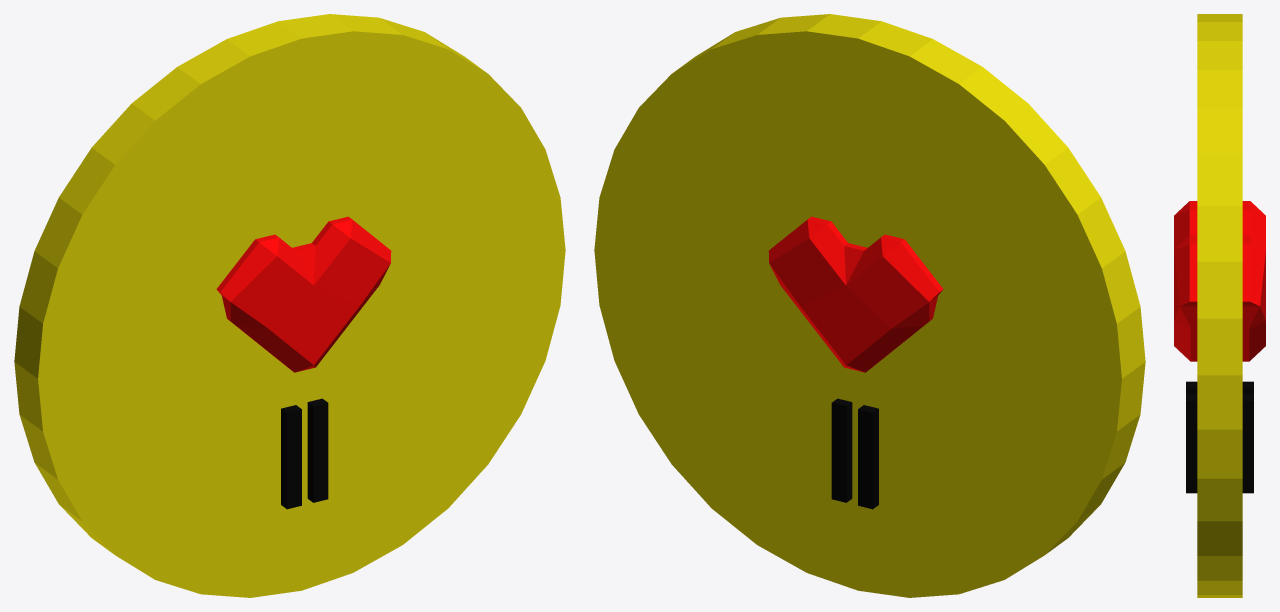
File: HealthRoom2.fbx
3 views of the same model, side by side, from view 1: azimuth 30°, elevation 25°; view 2: azimuth 150°, elevation 25°; view 3: azimuth 270°, elevation 25° (orthographic). The views are drawn at different scales.
Parts seen in each view (by area): view 1: Cylinder, Cube.001, Cube.003, Cube; view 2: Cylinder, Cube.001, Cube.003, Cube; view 3: Cylinder, Cube.001, Cube.003, Cube.
Boxes of the visible parts, bbox=[...] form: Cylinder: bbox=[14, 14, 565, 597]; Cube.001: bbox=[216, 216, 391, 372]; Cube.003: bbox=[307, 398, 328, 502]; Cube: bbox=[281, 405, 301, 509]; Cylinder: bbox=[594, 14, 1145, 597]; Cube.001: bbox=[768, 216, 943, 372]; Cube.003: bbox=[831, 398, 852, 502]; Cube: bbox=[858, 405, 878, 509]; Cylinder: bbox=[1197, 14, 1242, 597]; Cube.001: bbox=[1174, 201, 1265, 361]; Cube.003: bbox=[1186, 394, 1253, 493]; Cube: bbox=[1186, 381, 1253, 393].
Size of the model in its own units: 200 by 200 by 31.46.
